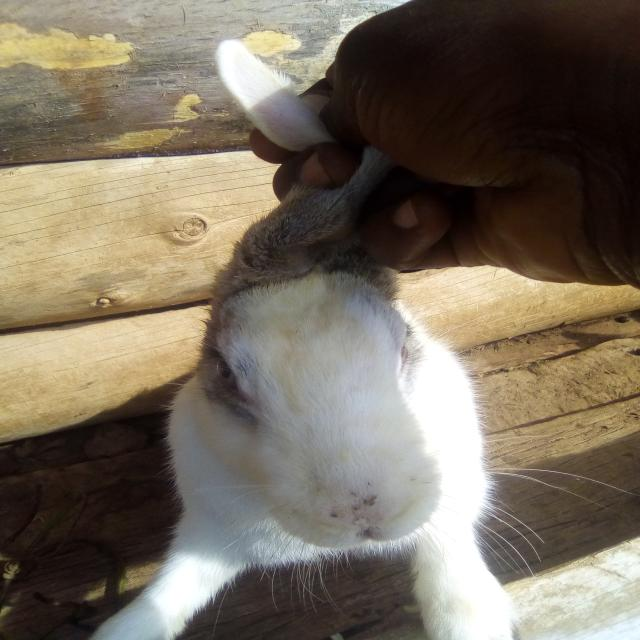rabbit: (82, 230, 522, 581)
